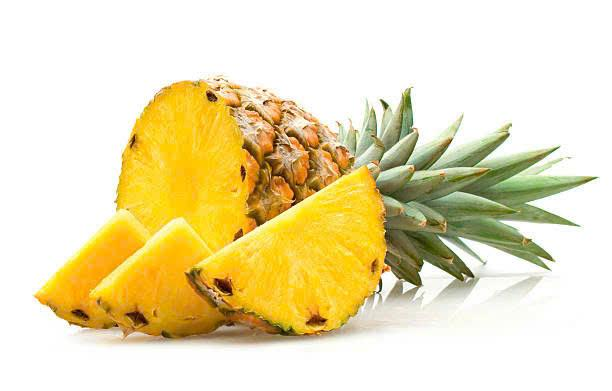pineapple: (180, 164, 398, 354), (103, 75, 357, 218), (38, 210, 188, 346)
